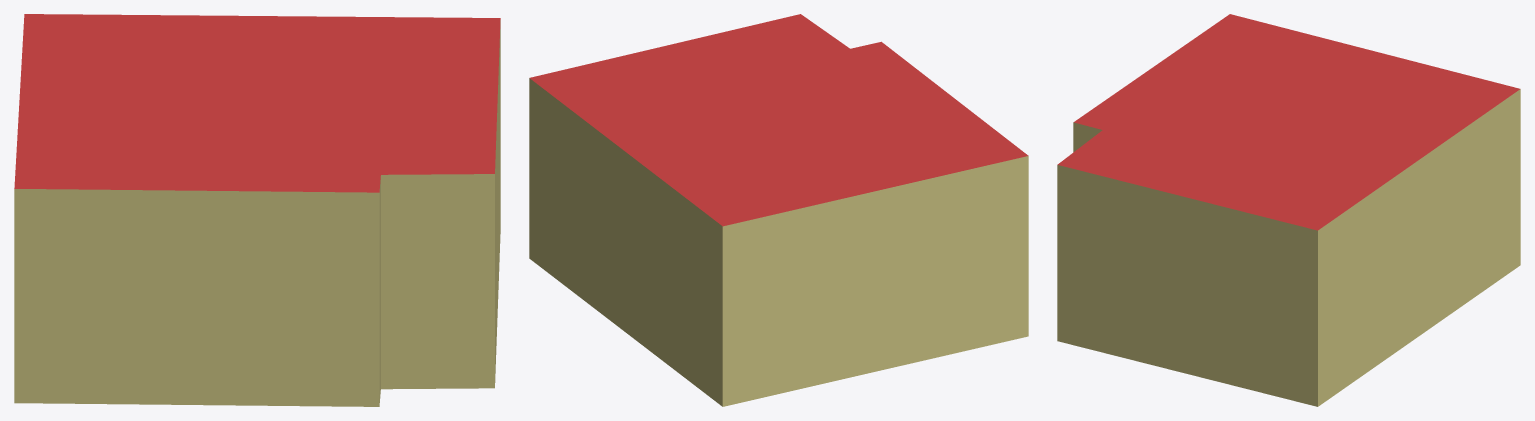
3 renders of one model, left to right at view 1: azimuth 30°, elevation 25°; view 2: azimuth 150°, elevation 25°; view 3: azimuth 270°, elevation 25°, orthographic. The views are drawn at different scales.
Visible parts, largest first — view 1: group_4, group_3; view 2: group_4, group_3; view 3: group_4, group_3.
Part boxes in pixels (<box>): group_4: <box>14,20,500,406</box>; group_3: <box>14,14,500,192</box>; group_4: <box>529,78,1028,406</box>; group_3: <box>530,14,1028,226</box>; group_4: <box>1057,89,1520,406</box>; group_3: <box>1057,14,1519,230</box>.
Bounding box in the file's own units: 26.93 × 24.34 × 10.22.
